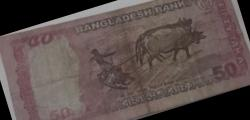50 taka: (6, 11, 241, 120)
